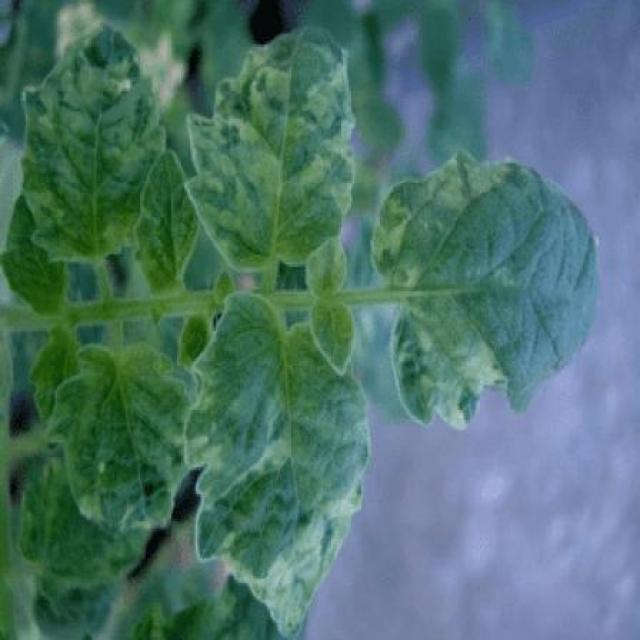Mosaic Virus: (183, 285, 373, 640), (370, 144, 600, 435), (184, 18, 359, 273), (15, 16, 166, 265), (43, 329, 191, 541)
